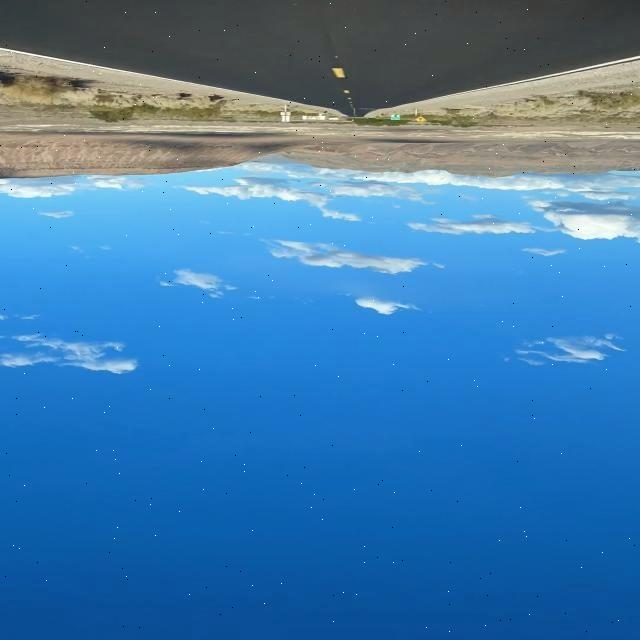lane: (331, 68, 344, 78)
road: (0, 1, 639, 116)
